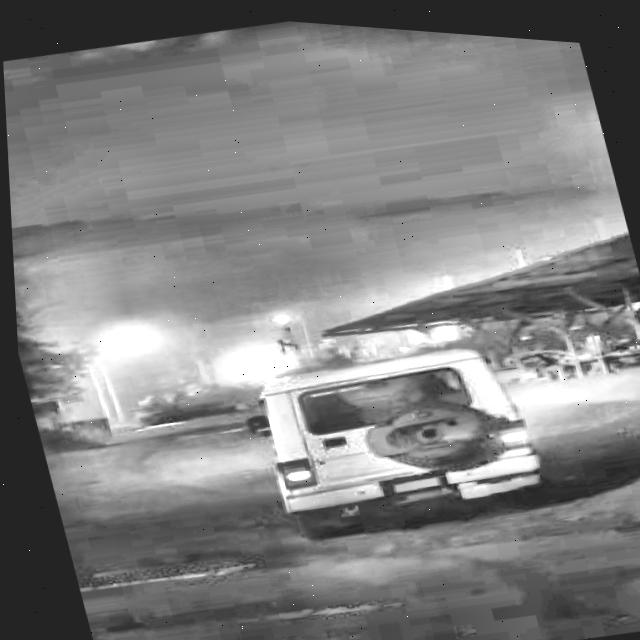light_vehicle: (226, 310, 561, 544)
